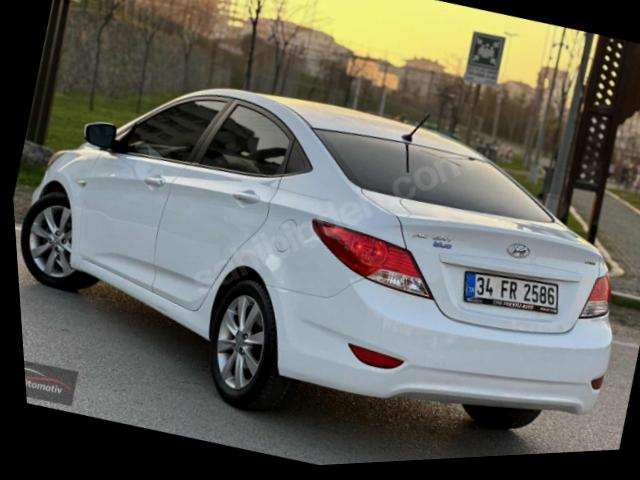plaka: (464, 271, 559, 313)
